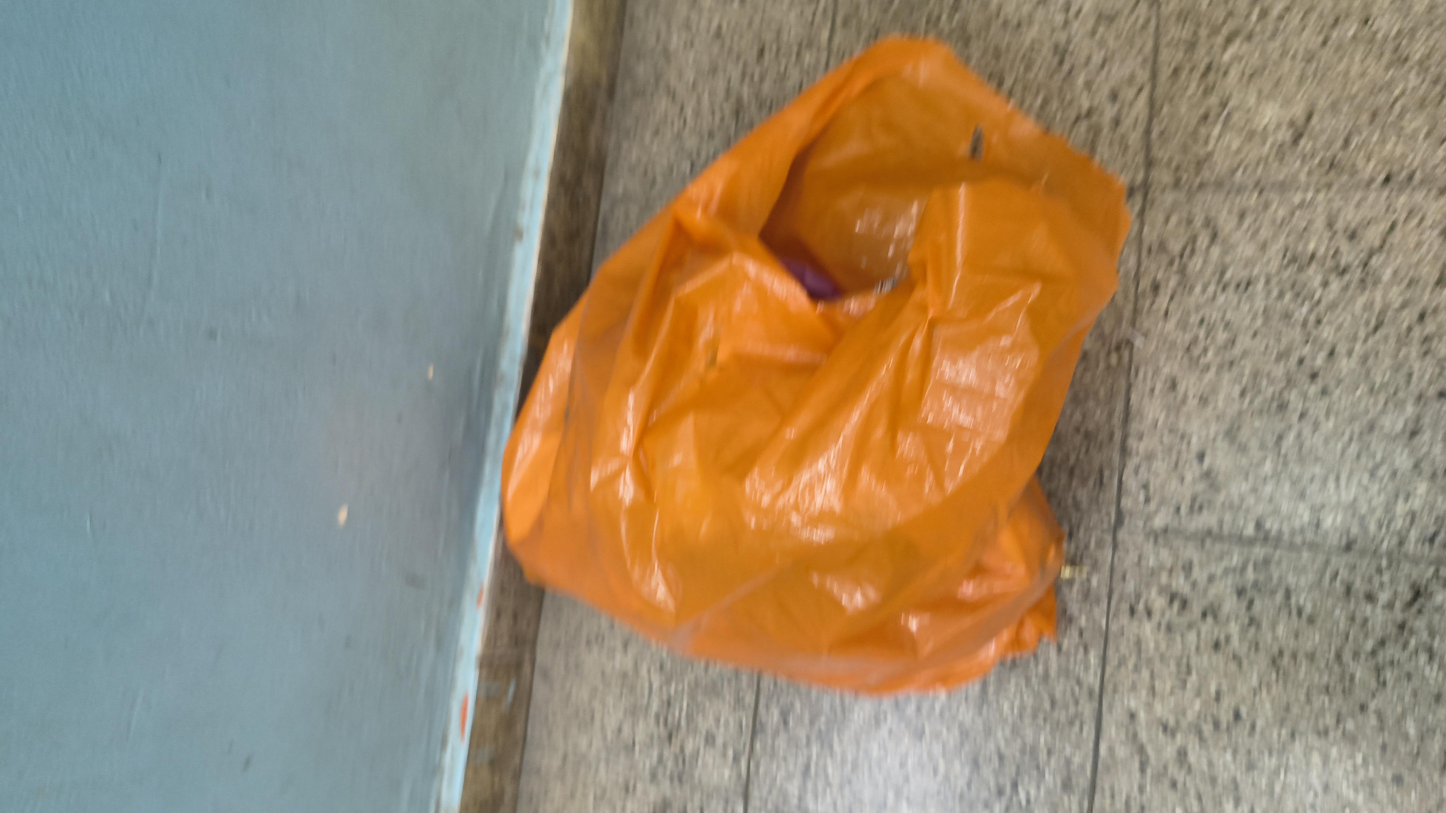Garbage: (151, 232, 1443, 699)
